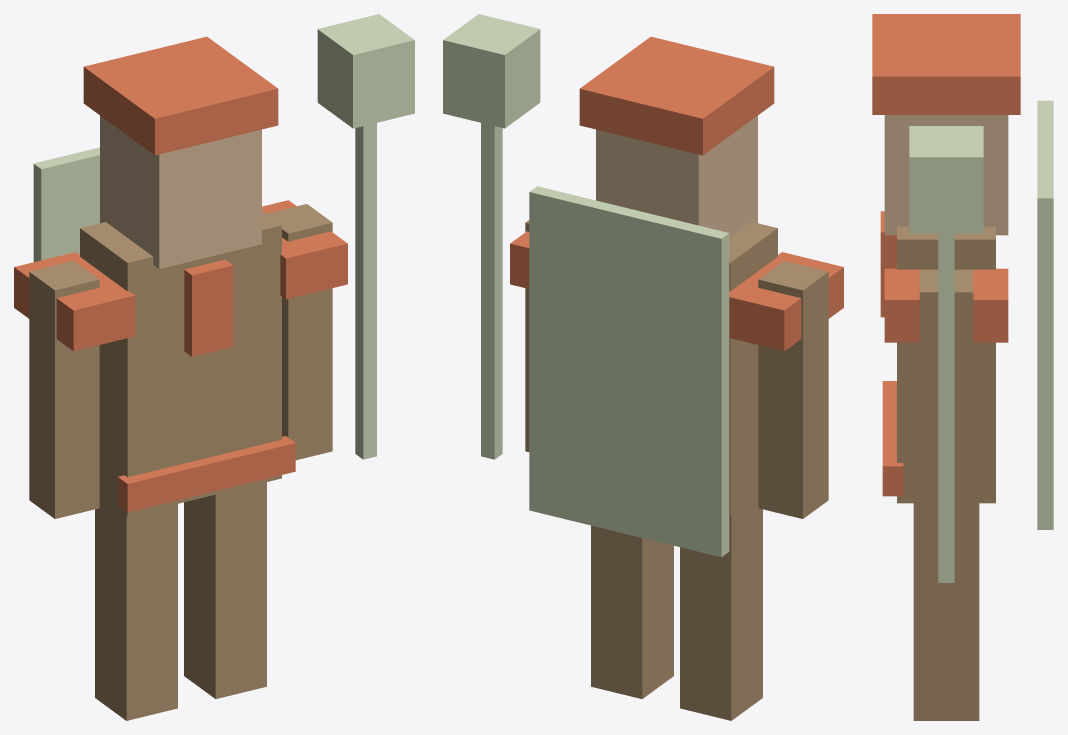
The model's file is 19_cassian_rootborne_cartographer_near_tactical.glb.
The picture shows the model from 3 angles, left to right: view 1: azimuth 30°, elevation 25°; view 2: azimuth 150°, elevation 25°; view 3: azimuth 270°, elevation 25°; orthographic projection. The views are drawn at different scales.
Parts seen in each view (by area): view 1: Cassian Rootborne, Cartographer near Tactical; view 2: Cassian Rootborne, Cartographer near Tactical; view 3: Cassian Rootborne, Cartographer near Tactical.
Part boxes in pixels (x1,y1,x2,y2): Cassian Rootborne, Cartographer near Tactical: (14, 14, 414, 720); Cassian Rootborne, Cartographer near Tactical: (443, 14, 843, 720); Cassian Rootborne, Cartographer near Tactical: (872, 14, 1053, 720).
Bounding box in the file's own units: 1.01 × 1.66 × 0.4274.
